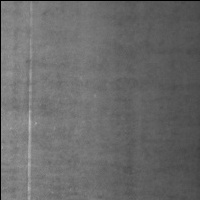scratches: (23, 15, 36, 200)
